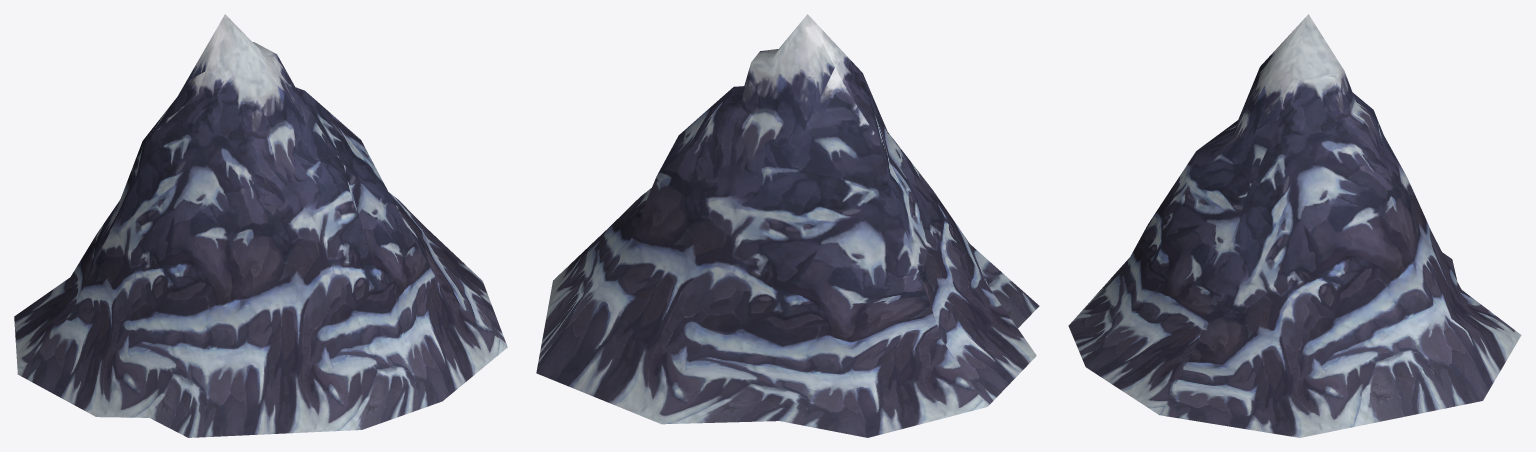
The model's file is Battle07_Hill_01.FBX.
3 renders of one model, left to right at view 1: azimuth 30°, elevation 25°; view 2: azimuth 150°, elevation 25°; view 3: azimuth 270°, elevation 25°, orthographic. The views are drawn at different scales.
Visible parts, largest first — view 1: Battle07_Hill_01; view 2: Battle07_Hill_01; view 3: Battle07_Hill_01.
Part boxes in pixels (x1,y1,x2,y2): Battle07_Hill_01: (14,14,507,437); Battle07_Hill_01: (536,14,1039,437); Battle07_Hill_01: (1068,14,1521,437).
Bounding box in the file's own units: 24.19 × 16.92 × 22.6.
